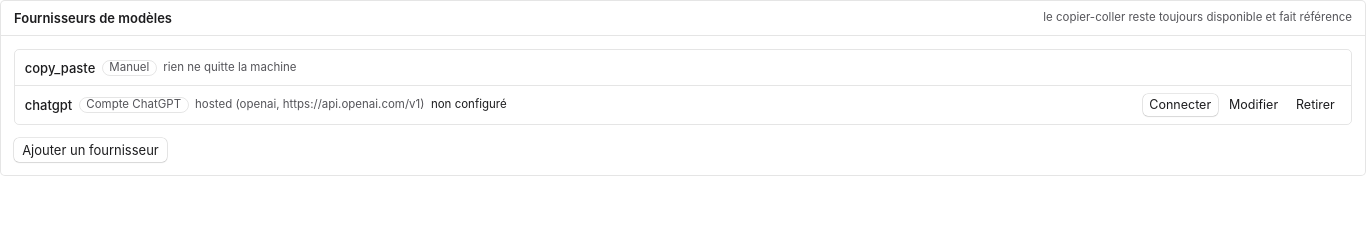
Scenario: model providers › reports a failed sign-in and stops polling
Click the button with aria-label "Connecter chatgpt". click: (1180, 105)
box: 1143,94 -> 1218,116
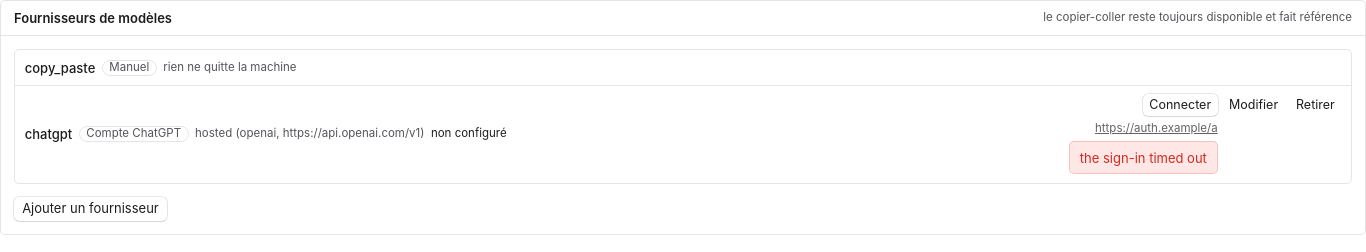
Check: the message reads "the sign-in timed out", box 1080,150 -> 1207,166
